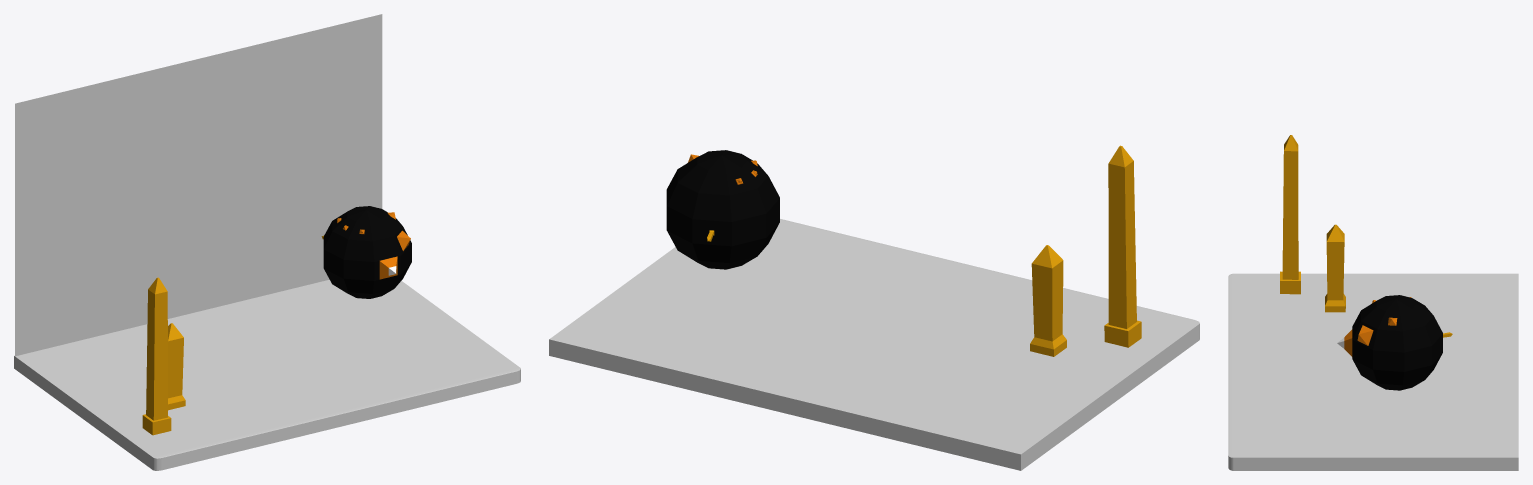
The model's file is room3.glb.
3 views of the same model, side by side, from view 1: azimuth 30°, elevation 25°; view 2: azimuth 150°, elevation 25°; view 3: azimuth 270°, elevation 25° (orthographic). The views are drawn at different scales.
Visible parts, largest first — view 1: Plane, Cube, Sphere, Masala; view 2: Cube, Sphere, Masala; view 3: Cube, Sphere, Masala.
Part boxes in pixels (x1,y1,x2,y2): Plane: (15,14,382,356); Cube: (14,279,520,470); Sphere: (321,206,411,298); Masala: (142,277,185,435); Cube: (549,219,1199,470); Sphere: (666,150,779,269); Masala: (1030,145,1141,356); Cube: (1228,273,1518,470); Sphere: (1337,295,1452,390); Masala: (1280,135,1345,312).
Bounding box in the file's own units: 6 × 4.14 × 4.
